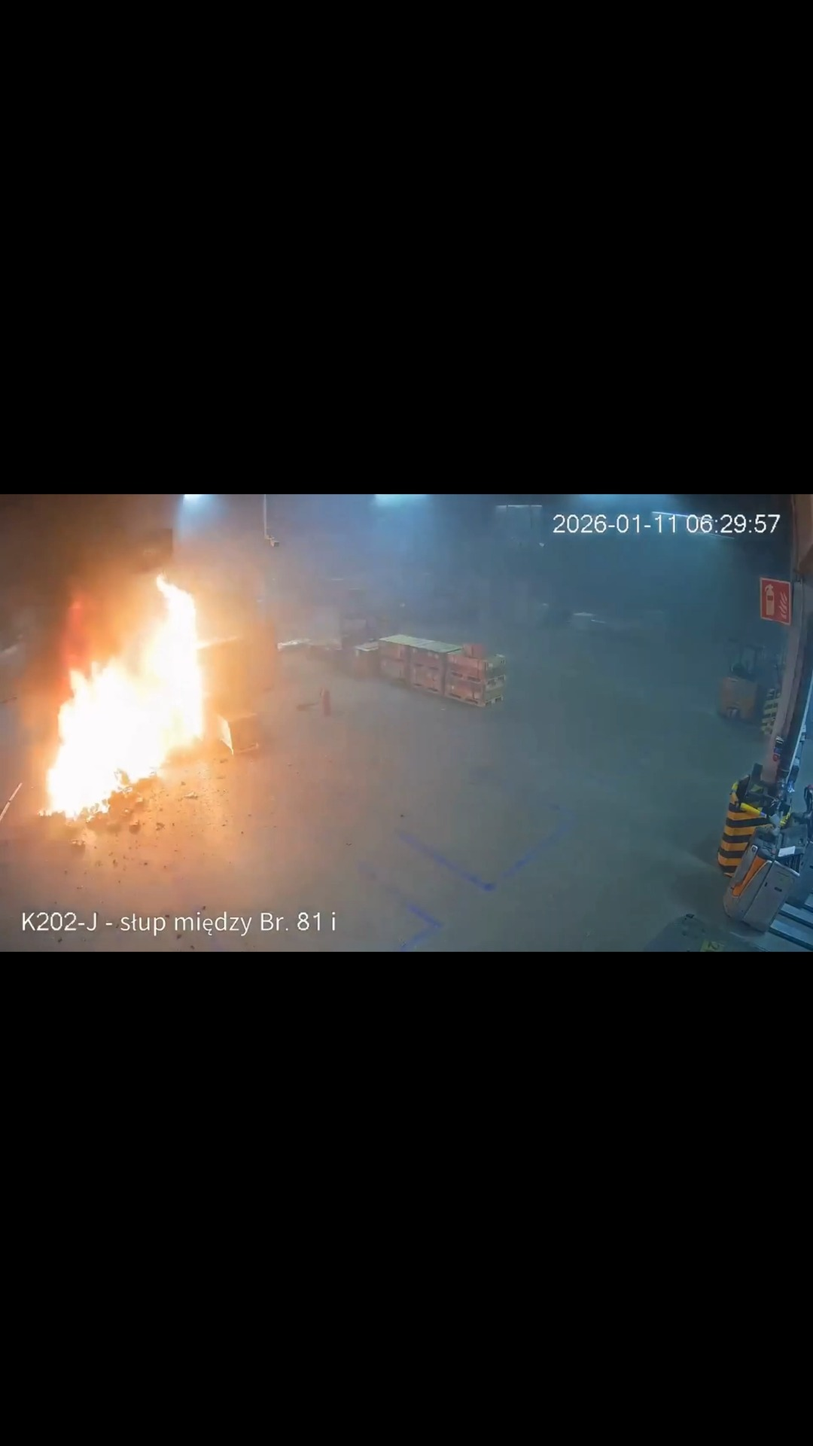fire: (41, 571, 209, 825)
smoke: (4, 495, 671, 718)
